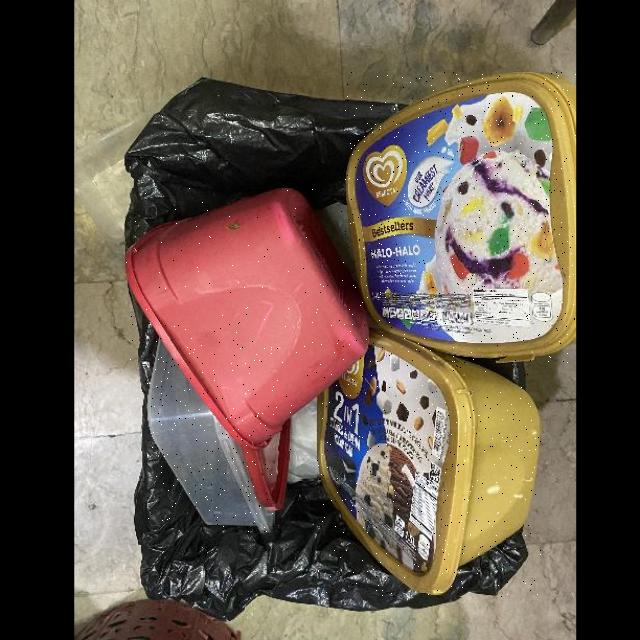plastic: (346, 73, 576, 363), (126, 188, 370, 451), (317, 325, 541, 597), (147, 340, 274, 534)
